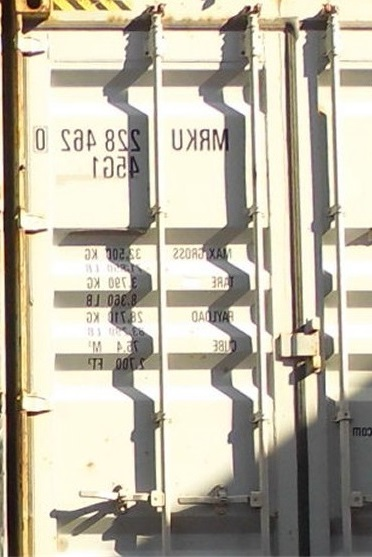container_door: (14, 4, 364, 552)
